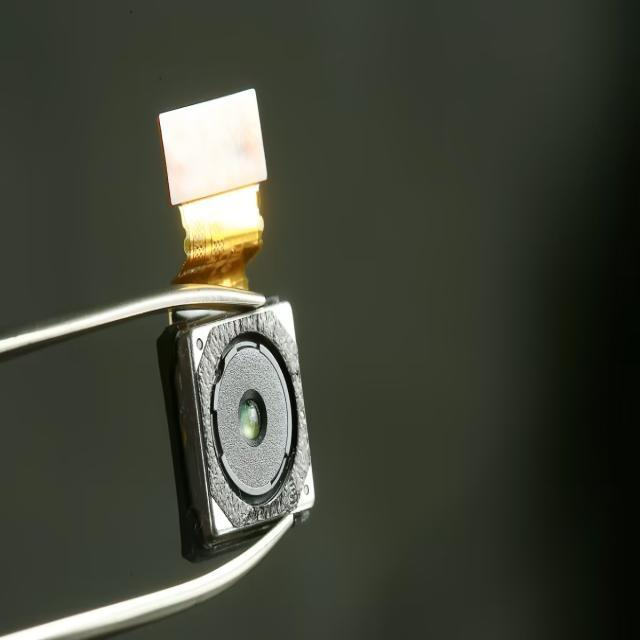hidden camera: (238, 390, 265, 447)
